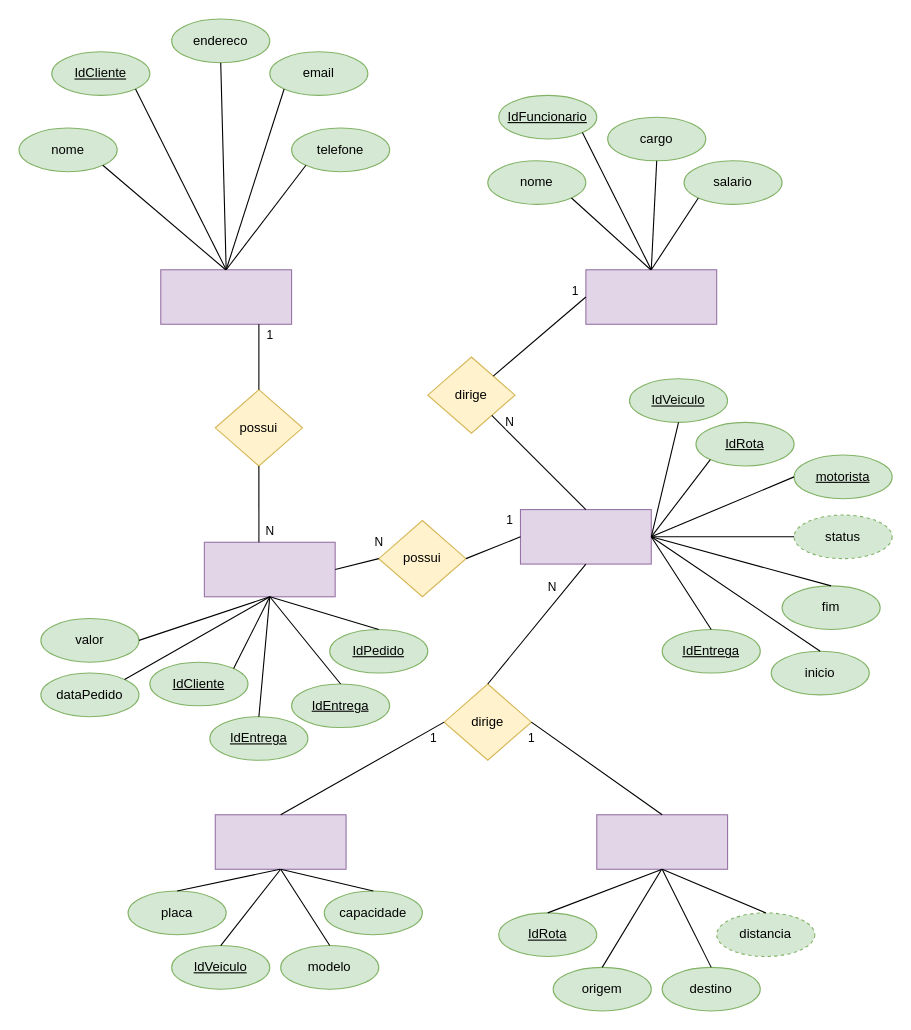
Image size: 911x1030. Some labels were removed from this diagram. The box of each missing label's shape, as (x1, y1, x2, y2) in pixels:
cliente: (160, 269, 292, 324)
entrega: (519, 508, 651, 564)
funcionario: (585, 269, 717, 324)
pedido: (203, 541, 335, 597)
rota: (596, 814, 728, 869)
veiculo: (214, 814, 346, 869)
